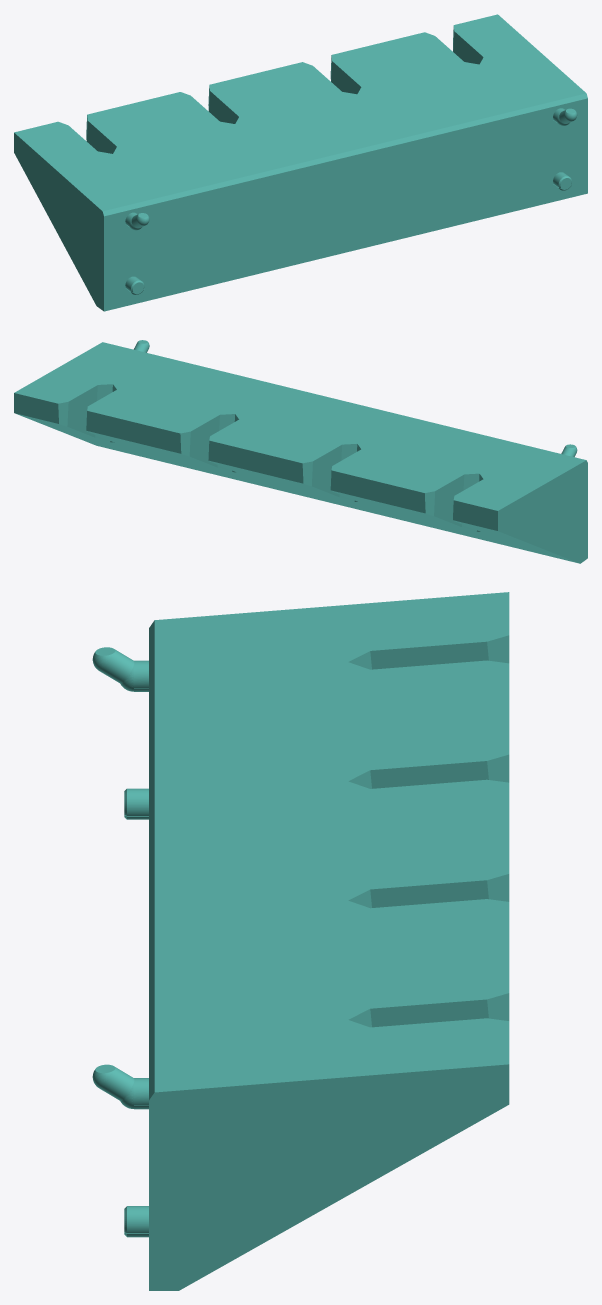
The model's file is part-bd01-slope-e__v1__installed.glb.
3 renders of one model, top to bottom at view 1: azimuth 30°, elevation 25°; view 2: azimuth 150°, elevation 25°; view 3: azimuth 270°, elevation 25°, orthographic. The views are drawn at different scales.
Visible parts, largest first — view 1: Actual holder mesh; view 2: Actual holder mesh; view 3: Actual holder mesh.
Boxes of the visible parts, x1=… form: Actual holder mesh: x1=14, y1=14, x2=587, y2=311; Actual holder mesh: x1=14, y1=340, x2=587, y2=563; Actual holder mesh: x1=92, y1=592, x2=509, y2=1290.
Bounding box in the file's own units: 0.2012 × 0.045 × 0.075.
